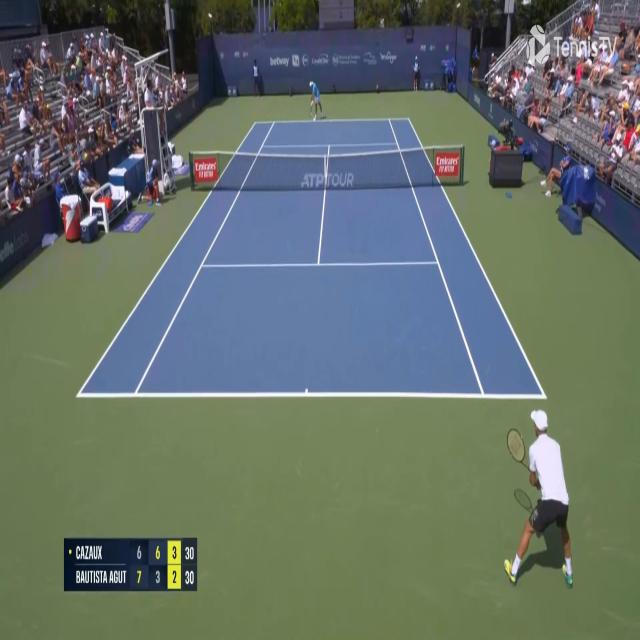tennis-player: (503, 404, 578, 589), (307, 78, 324, 122)
